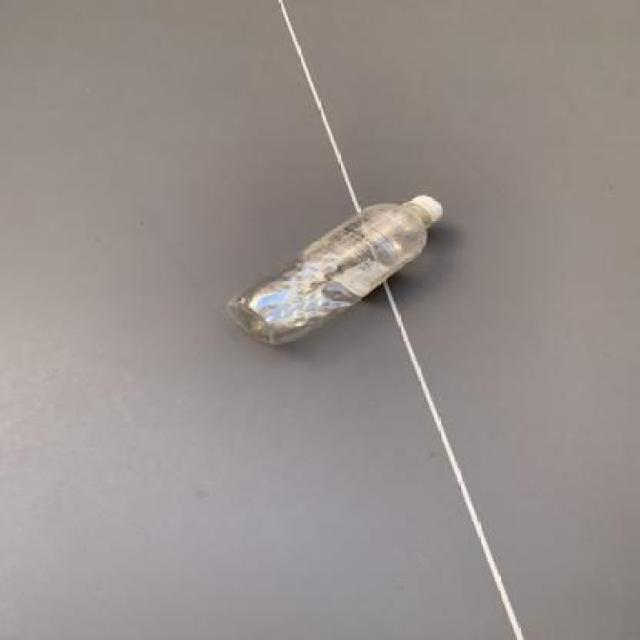trash: (226, 192, 443, 346)
